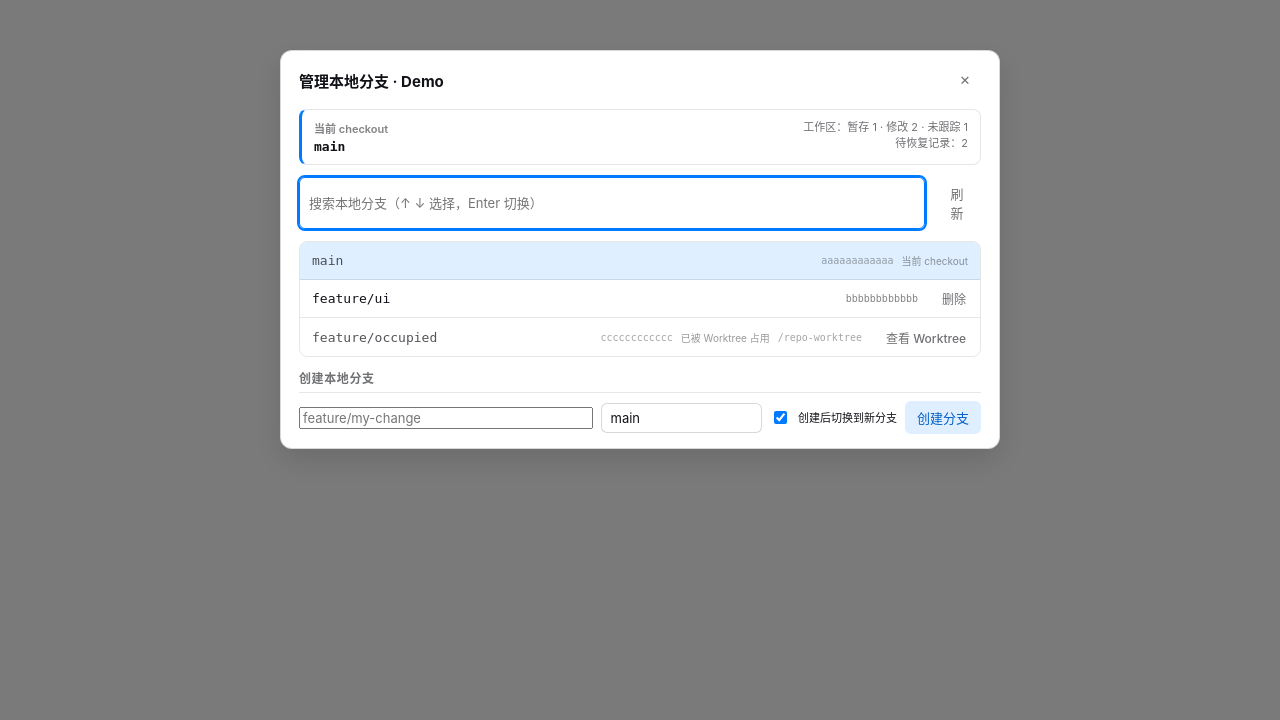
Scenario: local branch management › reports a successful delete separately when the authoritative refresh fails
What coordinates should you click on to do the following:
click the button with aria-label "删除分支 feature/ui"
I would click on:
 (954, 299)
Its box is left=933, top=286, right=975, bottom=311.
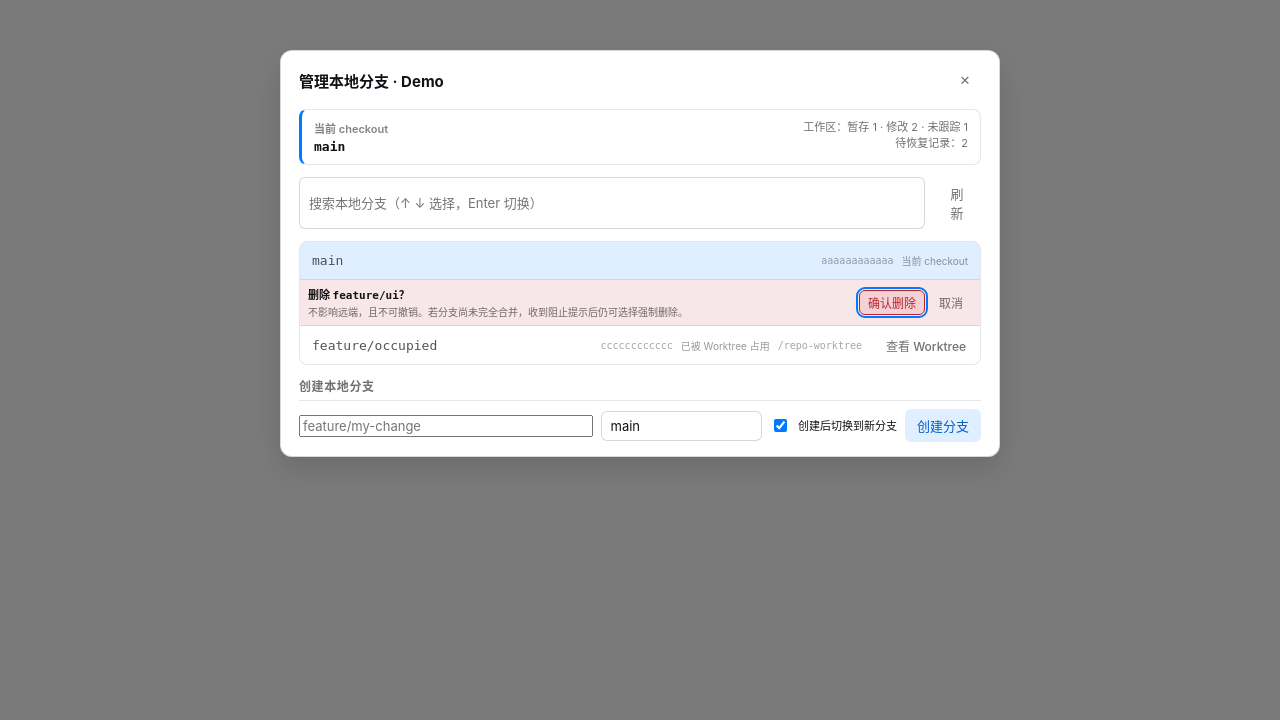
What coordinates should you click on to do the following:
click the button "确认删除"
I would click on:
 (892, 303)
Its box is left=859, top=290, right=925, bottom=315.
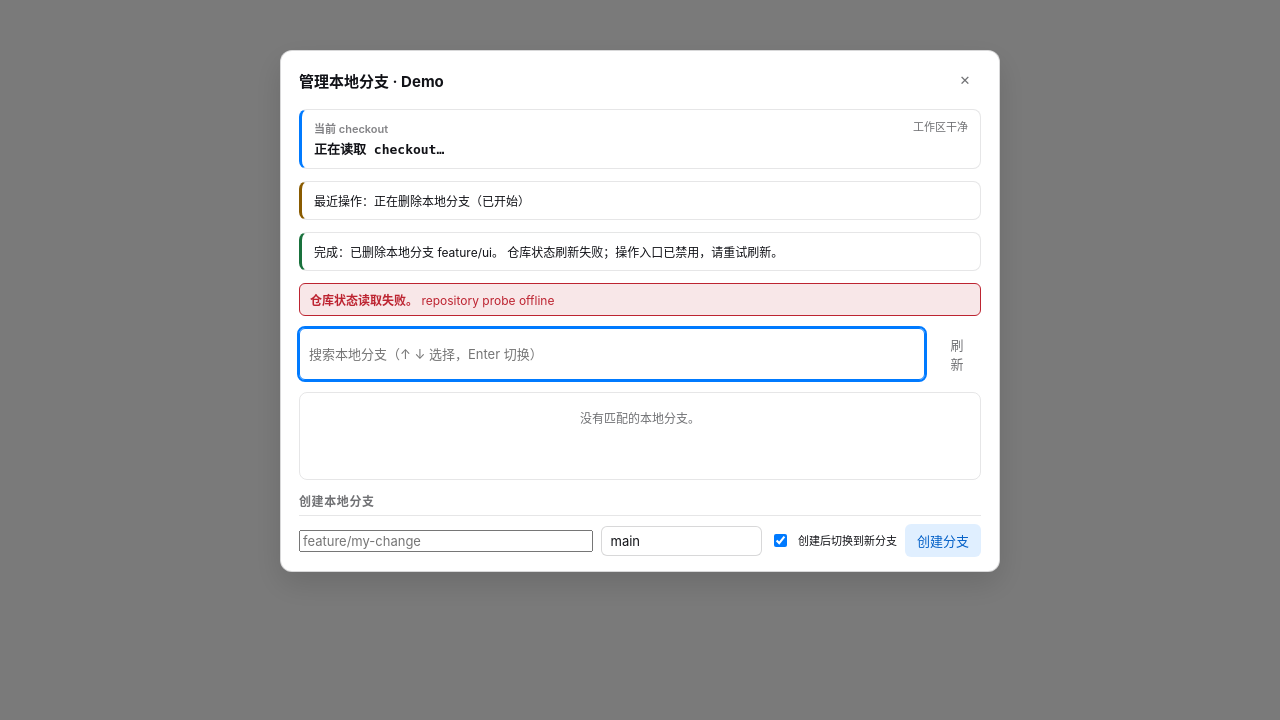
Check: the button "创建分支" is disabled, box left=905, top=524, right=981, bottom=557
Check: the text "完成：已删除本地分支 feature/ui。 仓库状态刷新失败；操作入口已禁用，请重试刷新。" is shown, box left=299, top=232, right=981, bottom=271
Check: the message "仓库状态读取失败。 repository probe offline" is shown, box left=299, top=283, right=981, bottom=316
